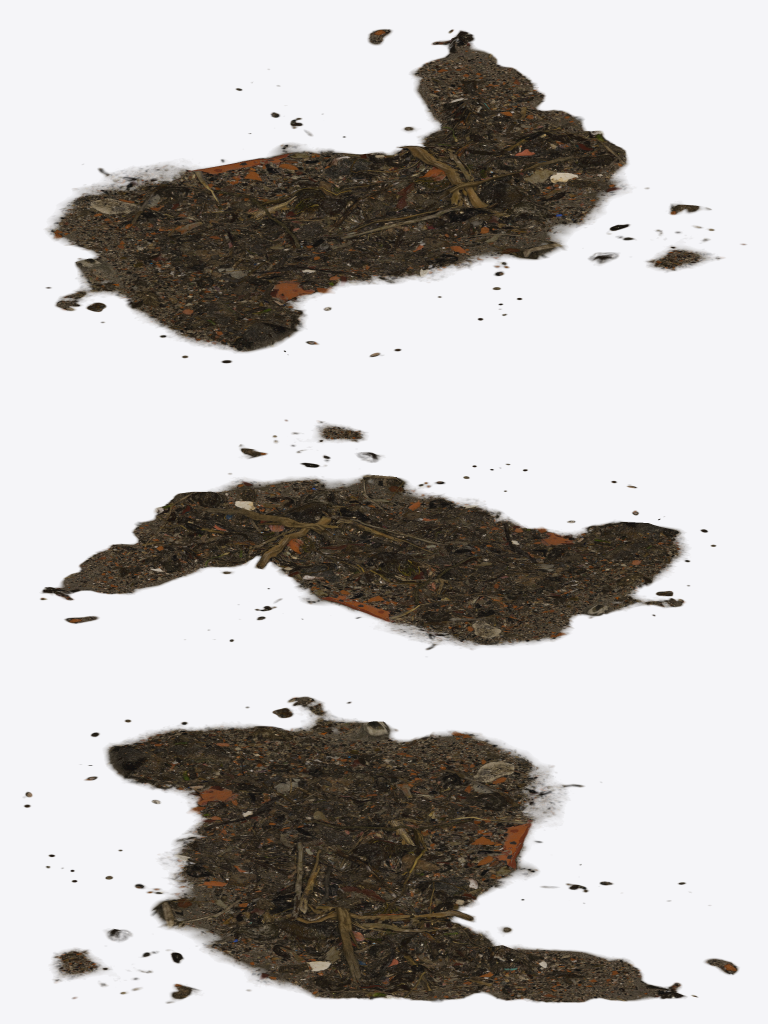
File: SM_Laji05.glb
3 renders of one model, top to bottom at view 1: azimuth 30°, elevation 25°; view 2: azimuth 150°, elevation 25°; view 3: azimuth 270°, elevation 25°, orthographic. The views are drawn at different scales.
Parts seen in each view (by area): view 1: SM_LaJi05; view 2: SM_LaJi05; view 3: SM_LaJi05.
Part boxes in pixels (x1,y1,x2,y2): SM_LaJi05: (46,29,746,363); SM_LaJi05: (40,419,716,649); SM_LaJi05: (24,696,738,1003).
Bounding box in the file's own units: 2 × 0.0587 × 1.98.
1 material, 1 textured.
